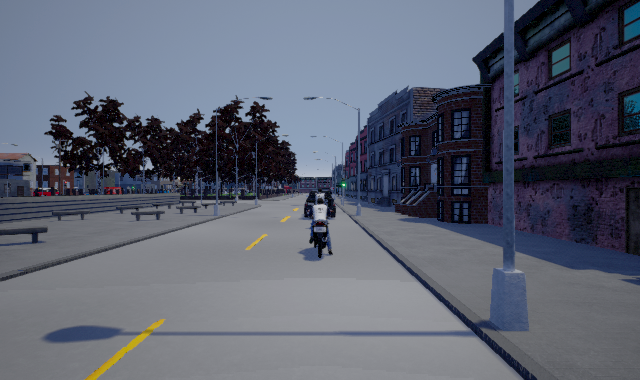motobike: (308, 199, 336, 256)
traffic_light: (342, 176, 345, 188)
vehicle: (304, 191, 337, 219)
